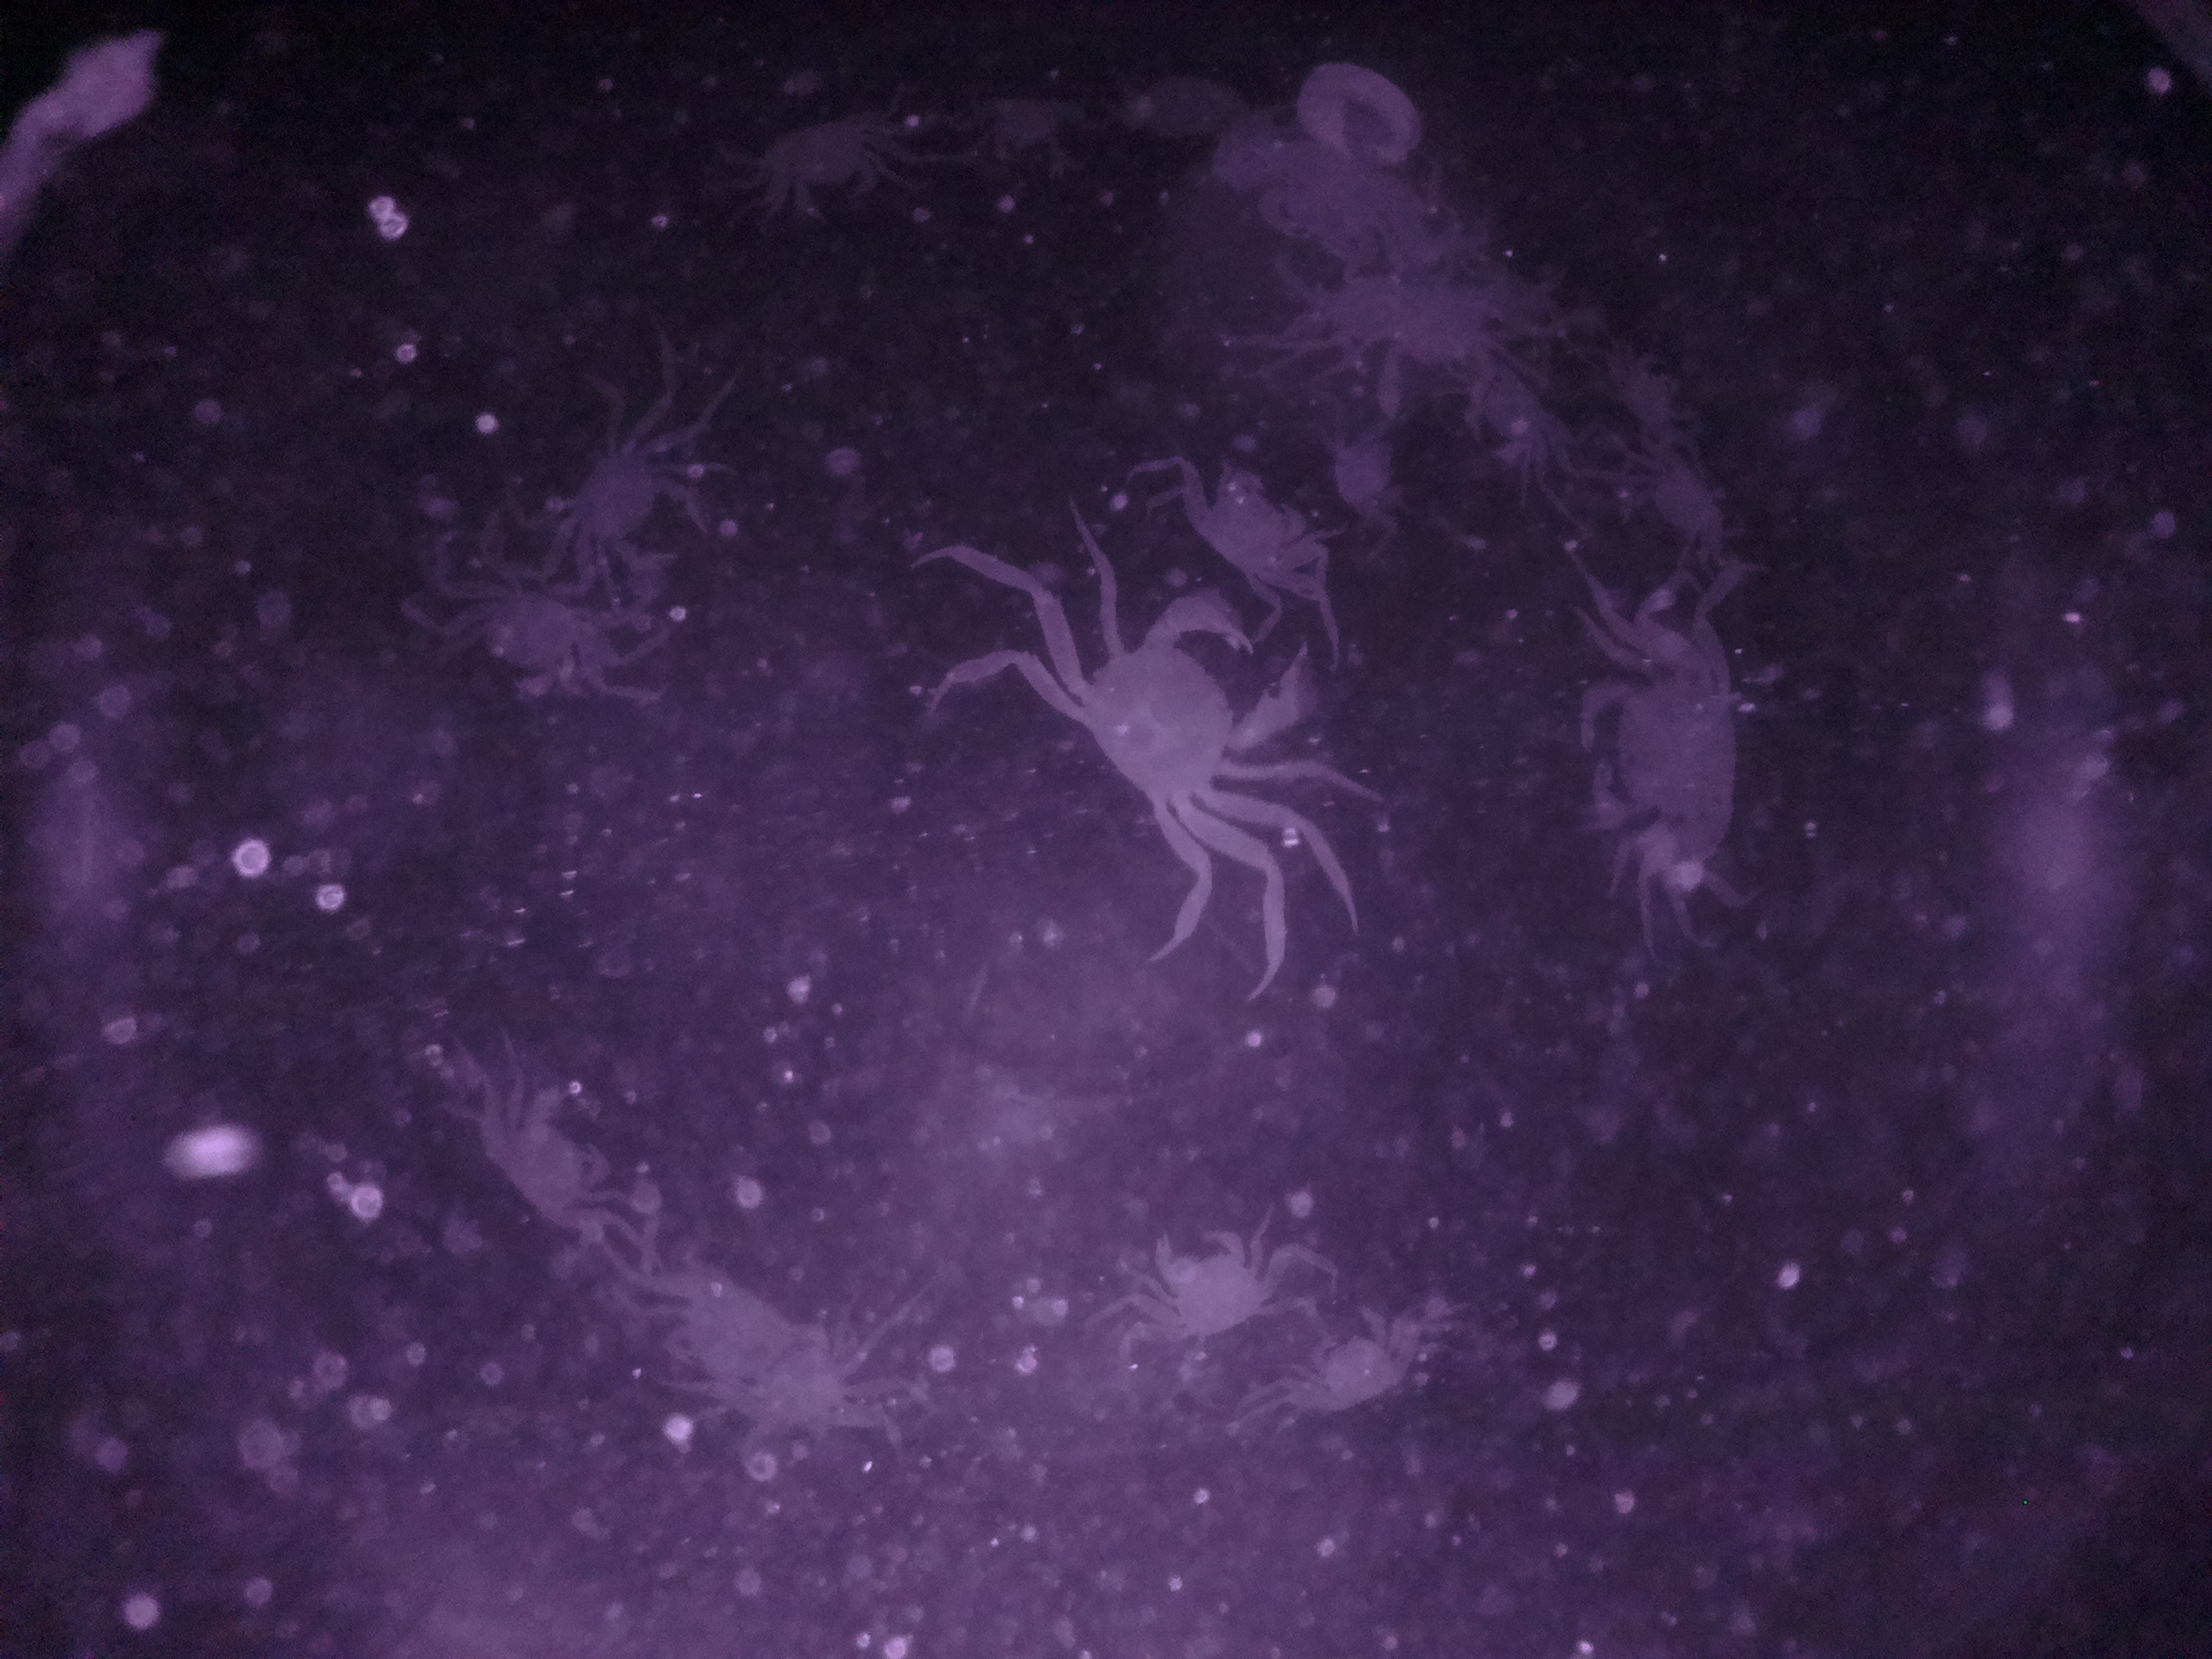Crab: (1021, 592, 1322, 854), (1566, 622, 1766, 889), (463, 1066, 637, 1256), (554, 415, 723, 589), (1170, 457, 1341, 612), (1123, 1222, 1299, 1366), (1284, 1284, 1433, 1446), (751, 99, 921, 228), (1623, 427, 1756, 580)
